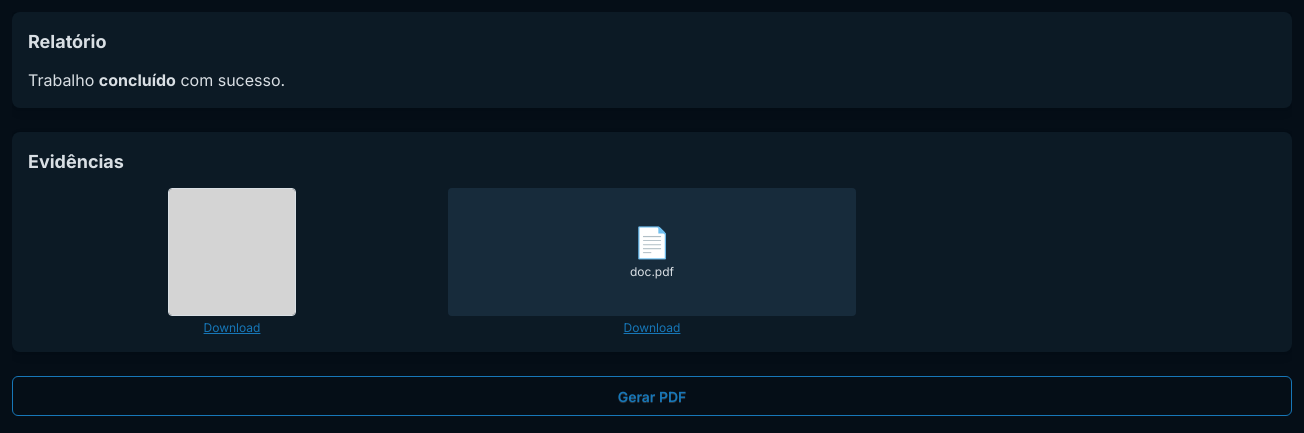
JobReportView › clicar em Gerar PDF mostra o step de checklist
Click the button "Gerar PDF".
click(652, 396)  # box [12,376,1292,416]
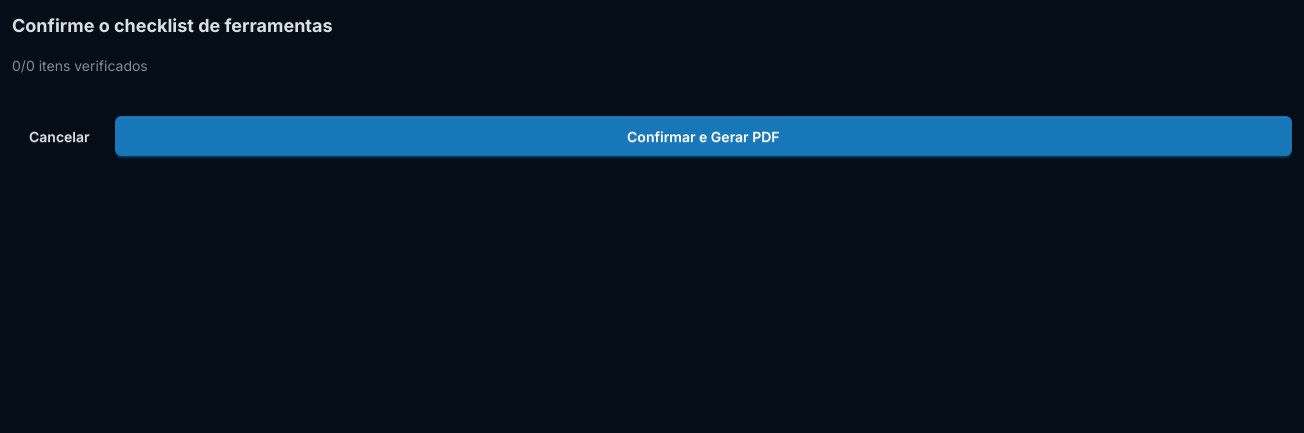
Expected: the element with test id "checklist-step" is shown, [12,12,1292,156]
